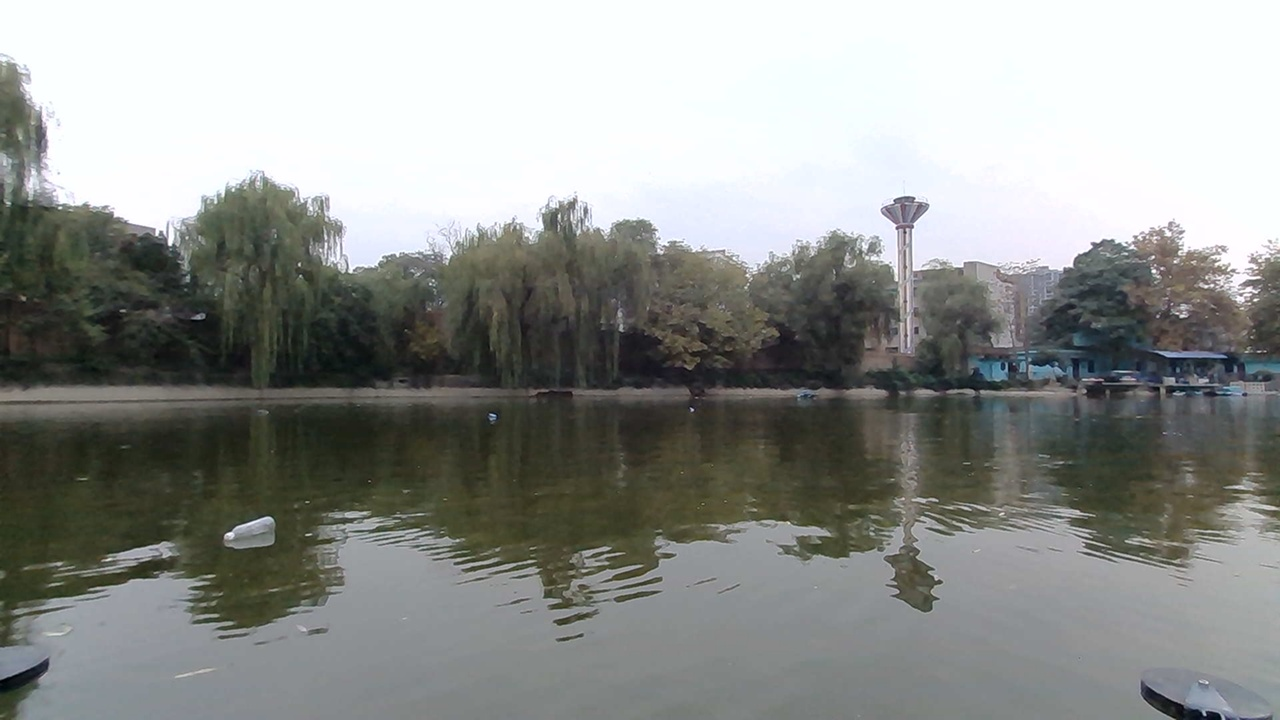bottle: (220, 515, 279, 544), (479, 410, 510, 428)
